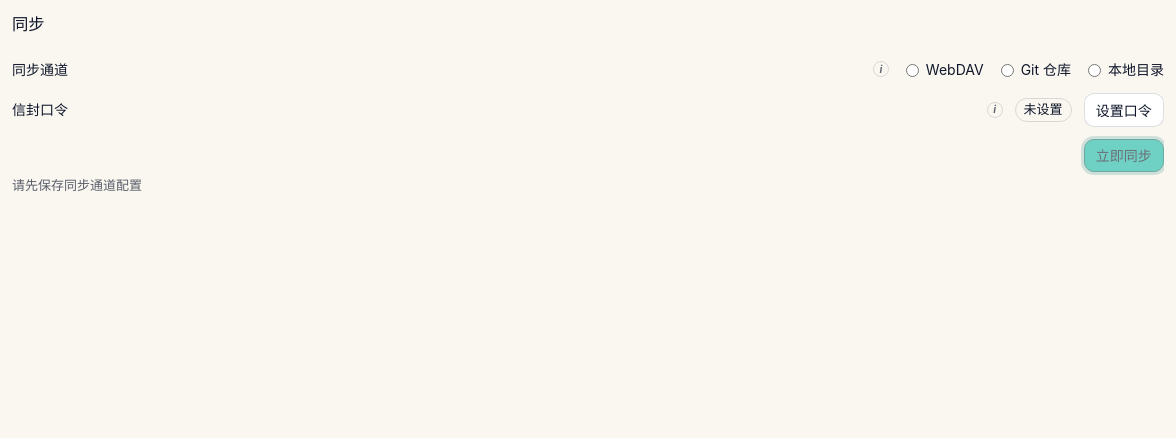
Scenario: SyncSettings › webdav：非 http(s) 服务器 → 校验错误且不落库；合法配置保存写 channel+config 两键
Click the radio button with test id "sync-channel-webdav": [912, 71] box [906,64,919,77]
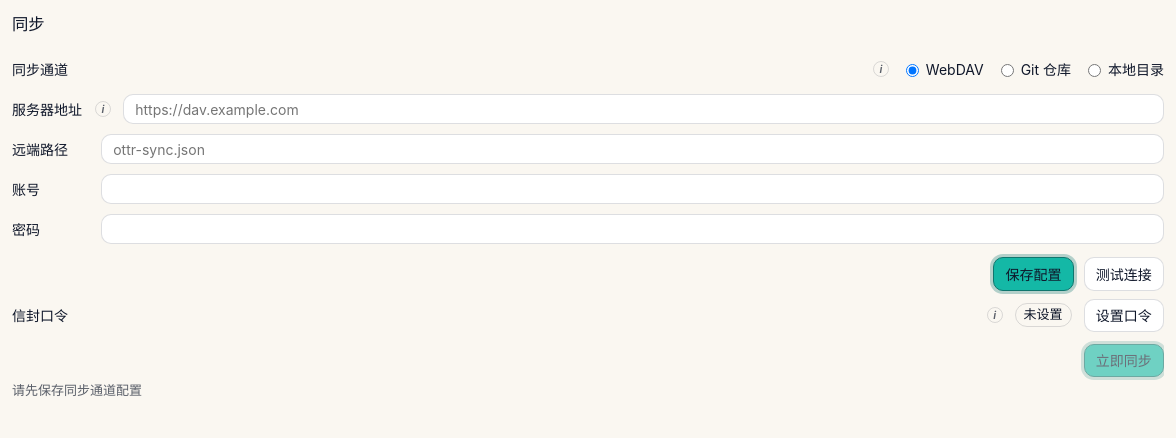
In the field with test id "sync-webdav-server": [644, 109] box [123,94,1164,124], type "ftp://nope"
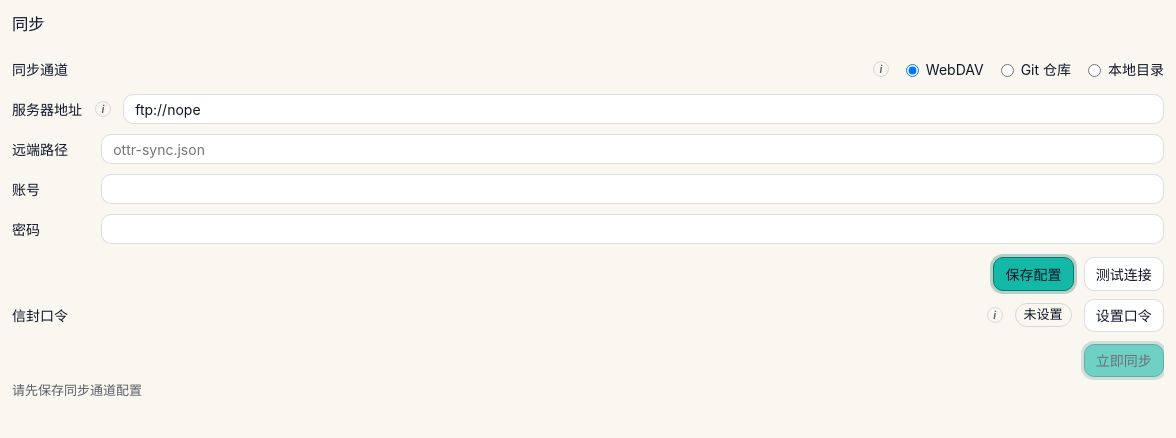
Click the button with test id "sync-save": [1034, 274] box [993,257,1074,290]
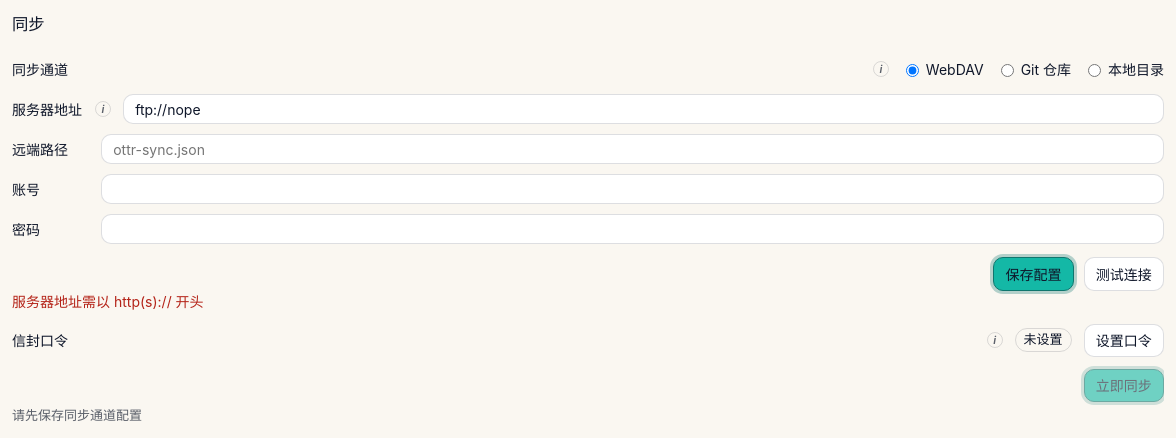
Expected: the text with test id "sync-form-error" shows "http", [12,292,204,310]
Replace the text in the field with test id "sync-webdav-server" with "https://dav.x": [644, 109] box [123,94,1164,124]
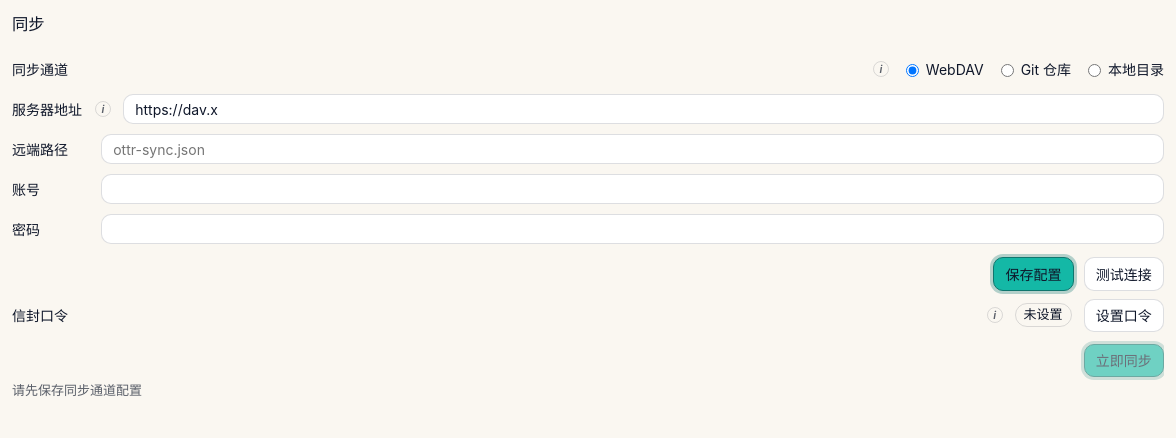
Click the button with test id "sync-save": [1034, 274] box [993,257,1074,290]
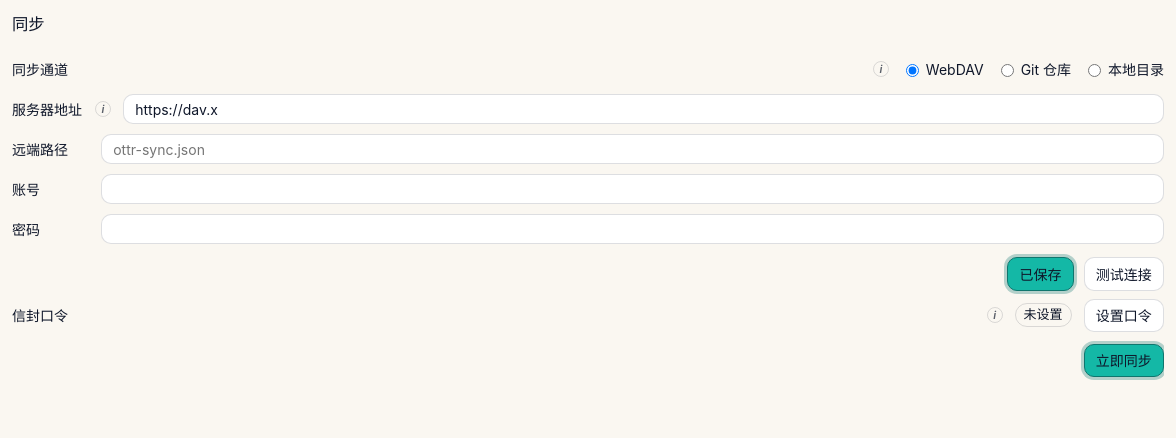
Expected: the button with test id "sync-save" reads "已保存", [1007,257,1074,290]
